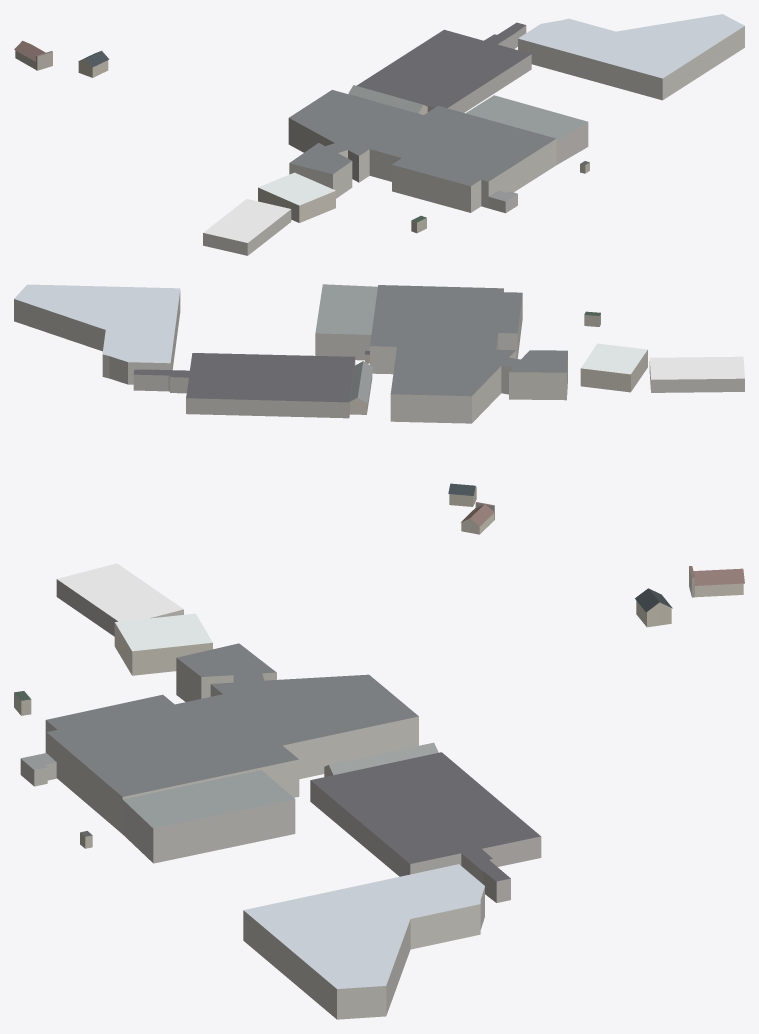
3 views of the same model, one above another, from view 1: azimuth 30°, elevation 25°; view 2: azimuth 150°, elevation 25°; view 3: azimuth 270°, elevation 25° (orthographic). The views are drawn at different scales.
Parts seen in each view (by area): view 1: tuile; view 2: tuile; view 3: tuile.
Boxes of the visible parts, left/top/right/bottom form: tuile: left=14, top=14, right=744, bottom=255; tuile: left=14, top=284, right=744, bottom=534; tuile: left=14, top=563, right=744, bottom=1019.
Bounding box in the file's own units: 305 × 19.39 × 223.
